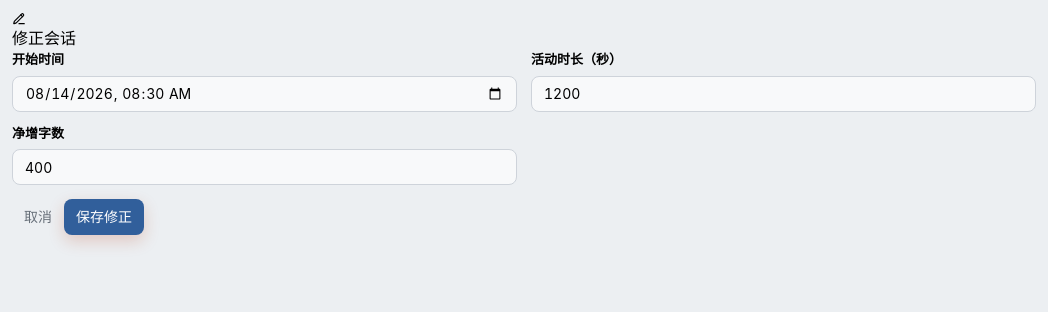
Scenario: SessionEditForm 会话修正 › 多个非法字段同时提示
Replace the text in the number field labelled "活动时长（秒）" with "-5" at (784, 94), box top-left (531, 76), bottom-right (1036, 112)
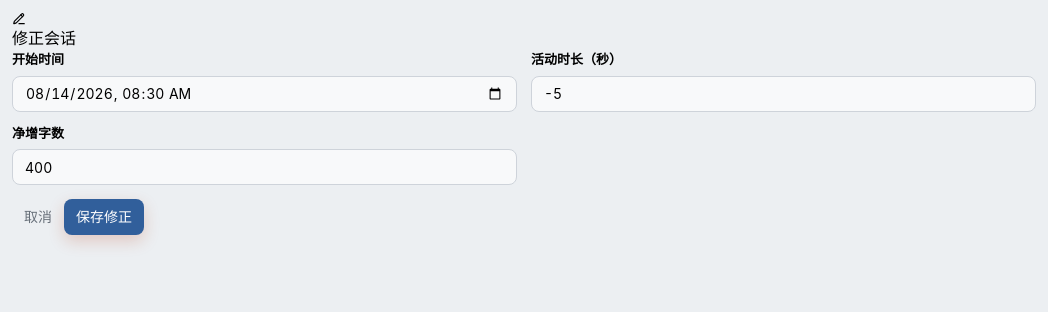
Replace the text in the number field labelled "净增字数" with "999999999" at (264, 167), box top-left (12, 149), bottom-right (517, 185)
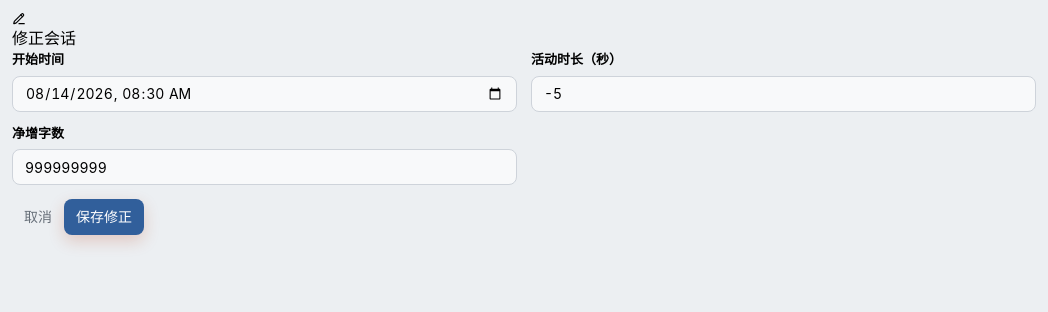
Click the button "保存修正" at (104, 217), box top-left (64, 199), bottom-right (144, 235)
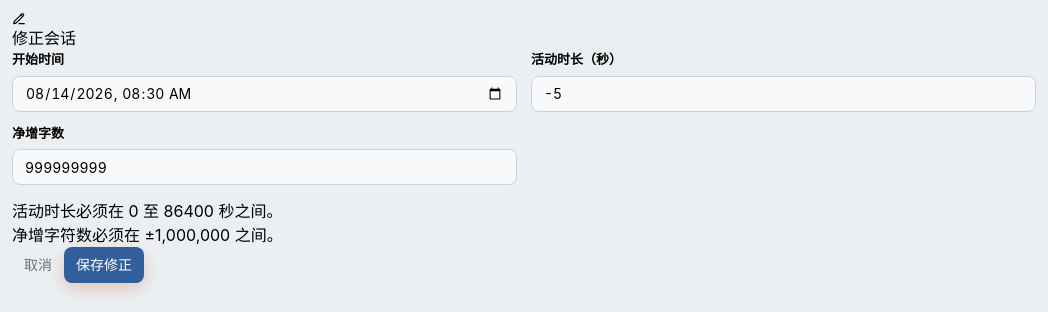
Result: the message shows "0 至 86400 秒" at top-left (12, 201), bottom-right (282, 221)
Result: the message shows "±1,000,000" at top-left (12, 225), bottom-right (283, 245)
